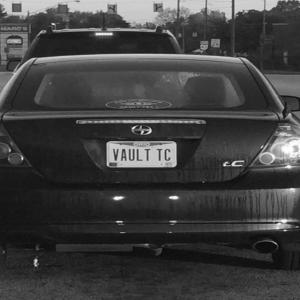Plate: (106, 141, 177, 168)
